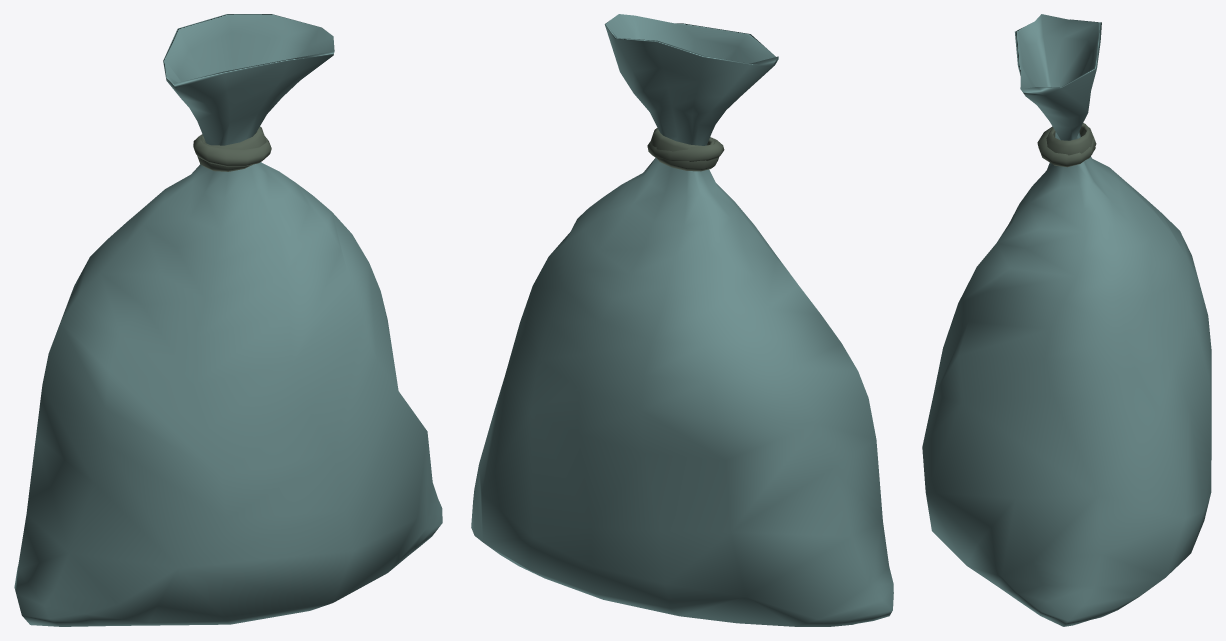
The model's file is Trash.fbx.
3 renders of one model, left to right at view 1: azimuth 30°, elevation 25°; view 2: azimuth 150°, elevation 25°; view 3: azimuth 270°, elevation 25°, orthographic. The views are drawn at different scales.
Visible parts, largest first — view 1: Trash; view 2: Trash; view 3: Trash.
Boxes of the visible parts, x1,y1,x2,y2 form: Trash: (14,14,442,626); Trash: (471,14,893,626); Trash: (922,14,1211,626).
Bounding box in the file's own units: 55.91 × 70.84 × 36.27.
